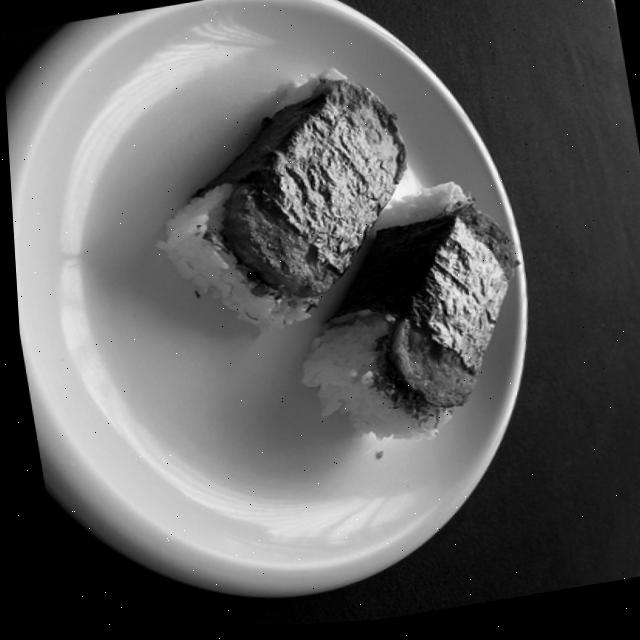寿司卷物: (118, 21, 565, 505)
